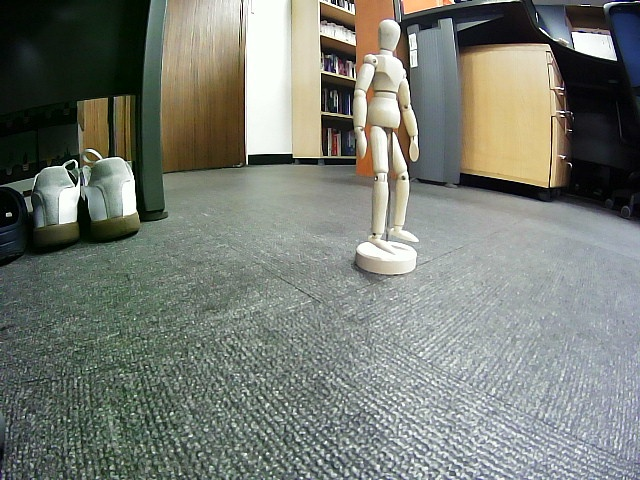person: (352, 17, 420, 254)
